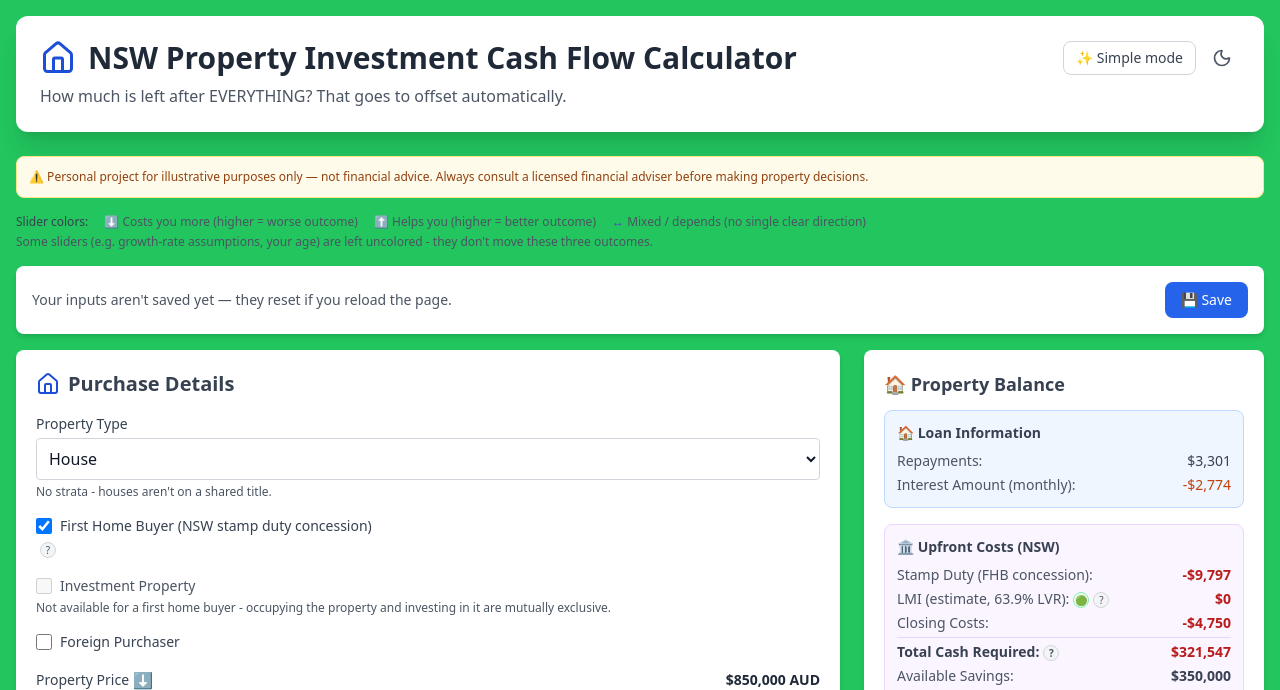
Test case: First Home Buyer / Investment Property mutual exclusion (TODO-38/44) › checking Foreign Purchaser reveals the Foreign Purchaser Surcharge line; unchecking hides it
Expected: the text "Foreign Purchaser Surcharge (8%):" is not shown
Click the checkbox labelled "Foreign Purchaser" at [44, 642], box [36, 634, 52, 650]
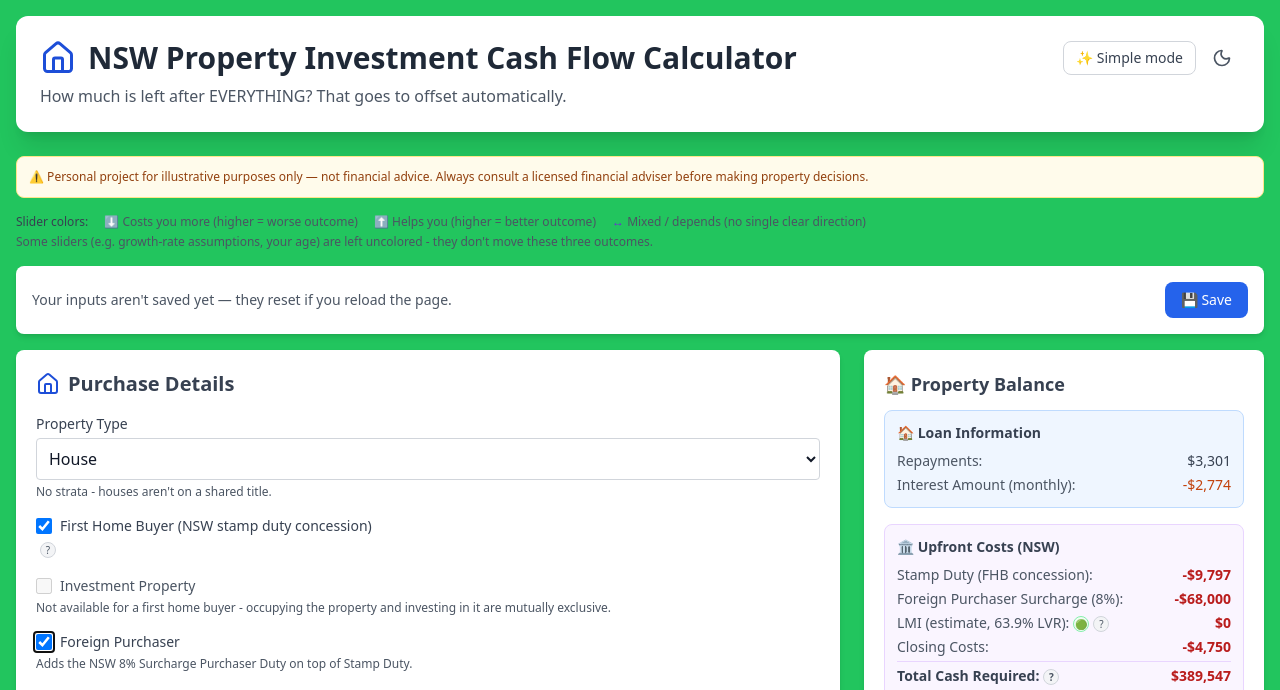
Now the text "Foreign Purchaser Surcharge (8%):" is shown, box [897, 589, 1123, 609]
Click the checkbox labelled "Foreign Purchaser" at [44, 642], box [36, 634, 52, 650]
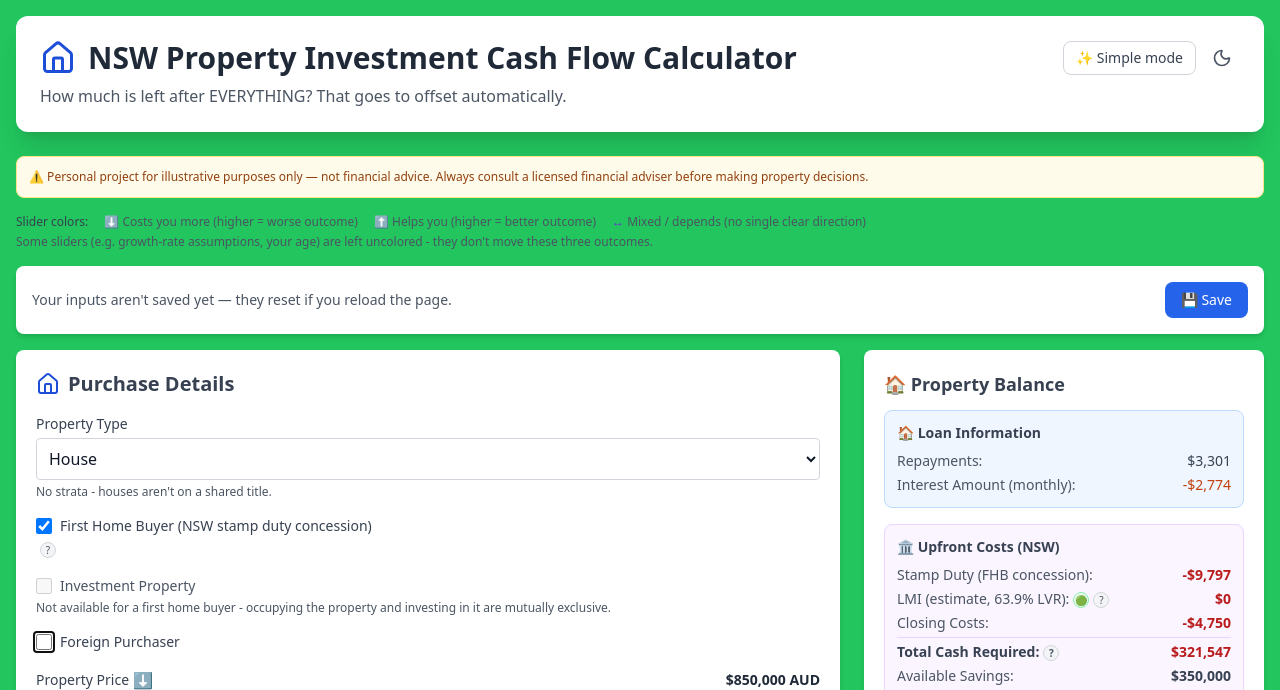
Now the text "Foreign Purchaser Surcharge (8%):" is gone
